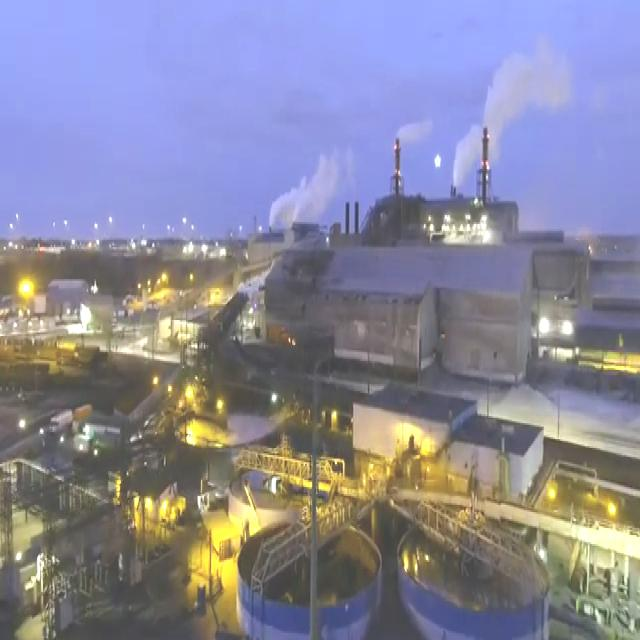smoke: (460, 36, 579, 201), (263, 146, 355, 240), (393, 114, 447, 196)
